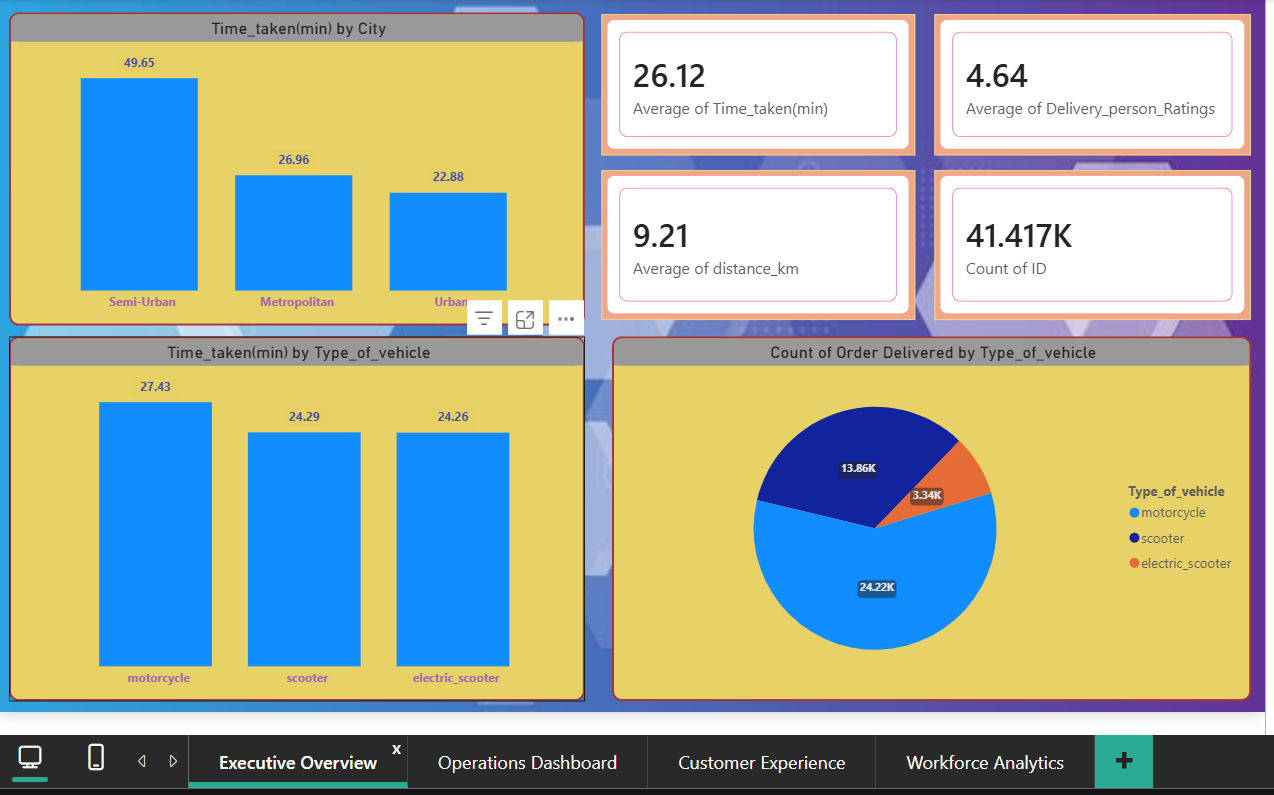

What the dashboard file says about the page in this screenshot:
{"tool":"powerbi","page":{"name":"Executive Overview","canvas":[1280,720],"ordinal":0},"visuals":[{"type":"clusteredColumnChart","title":"Time_taken(min) by City","fields":{"Category":["food_delivery_cleaned.City"],"Y":["Avg(food_delivery_cleaned.Time_taken(min))"]},"box":[12.9,14.3,581.4,315.7],"z":0},{"type":"clusteredColumnChart","title":"Time_taken(min) by Type_of_vehicle","fields":{"Category":["food_delivery_cleaned.Type_of_vehicle"],"Y":["Avg(food_delivery_cleaned.Time_taken(min))"]},"box":[12.1,340.7,581.5,368],"z":1000},{"type":"cardVisual","fields":{"Data":["Avg(food_delivery_cleaned.Time_taken(min))"]},"box":[610.2,15.1,316.5,142.3],"z":2000},{"type":"cardVisual","fields":{"Data":["Avg(food_delivery_cleaned.Delivery_person_Ratings)"]},"box":[946.4,15.1,319.5,142.3],"z":3000},{"type":"cardVisual","fields":{"Data":["Avg(food_delivery_cleaned.distance_km)"]},"box":[610.2,172.6,316.5,151.4],"z":4000},{"type":"cardVisual","fields":{"Data":["CountNonNull(food_delivery_cleaned.ID)"]},"box":[946.4,172.6,319.5,151.4],"z":5000},{"type":"pieChart","title":"Count of Order Delivered by Type_of_vehicle","fields":{"Category":["food_delivery_cleaned.Type_of_vehicle"],"Y":["CountNonNull(food_delivery_cleaned.Type_of_vehicle)"]},"box":[620.8,340.7,645.1,368],"z":6000}]}

Visuals, with their boxes on the page's 1280x720 design canvas (x1, y1, x2, y2). These are canvas units, not pixel positions in the 1274x795 screenshot, which may show the page scaled, cropped or inside an application window:
"Time_taken(min) by City" clusteredColumnChart: 13 14 594 330
"Time_taken(min) by Type_of_vehicle" clusteredColumnChart: 12 341 594 709
cardVisual - Avg(food_delivery_cleaned.Time_taken(min)): 610 15 927 157
cardVisual - Avg(food_delivery_cleaned.Delivery_person_Ratings): 946 15 1266 157
cardVisual - Avg(food_delivery_cleaned.distance_km): 610 173 927 324
cardVisual - CountNonNull(food_delivery_cleaned.ID): 946 173 1266 324
"Count of Order Delivered by Type_of_vehicle" pieChart: 621 341 1266 709
